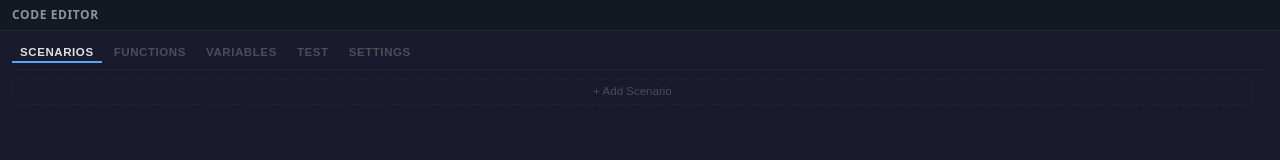
Scenario: CodeEditorPanel › add buttons › should show Add Variable button in Variables tab
Click the button "Variables". click: (241, 53)
box: [198,43,285,63]
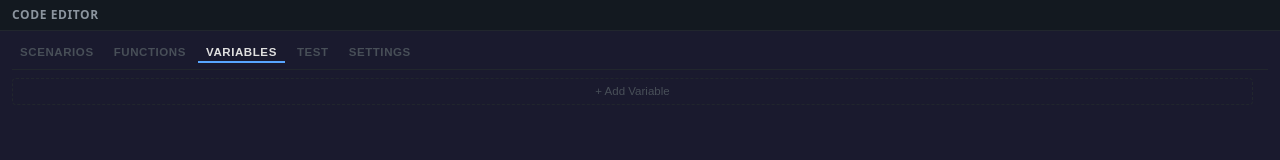
expect the button "+ Add Variable" is shown: met, box [12,78,1253,105]
